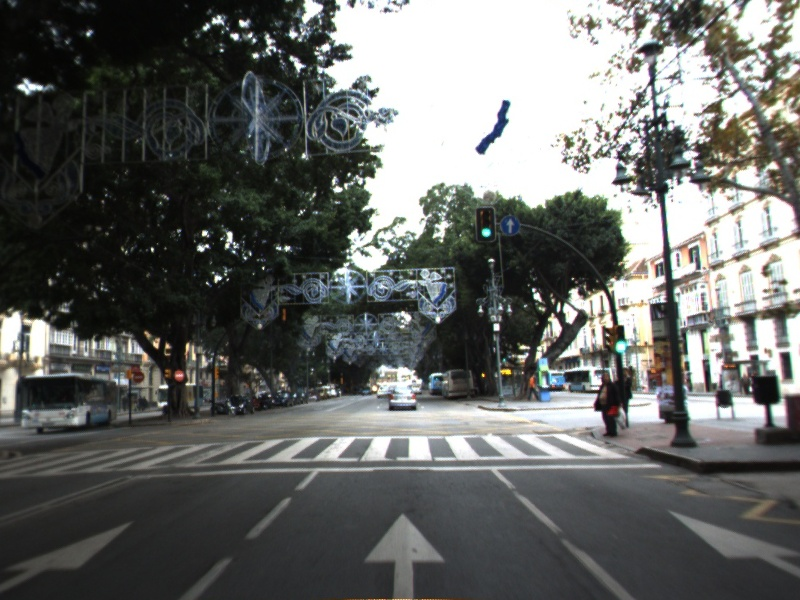STRAIGHT: (661, 503, 800, 579), (1, 518, 139, 593), (358, 509, 451, 600)
